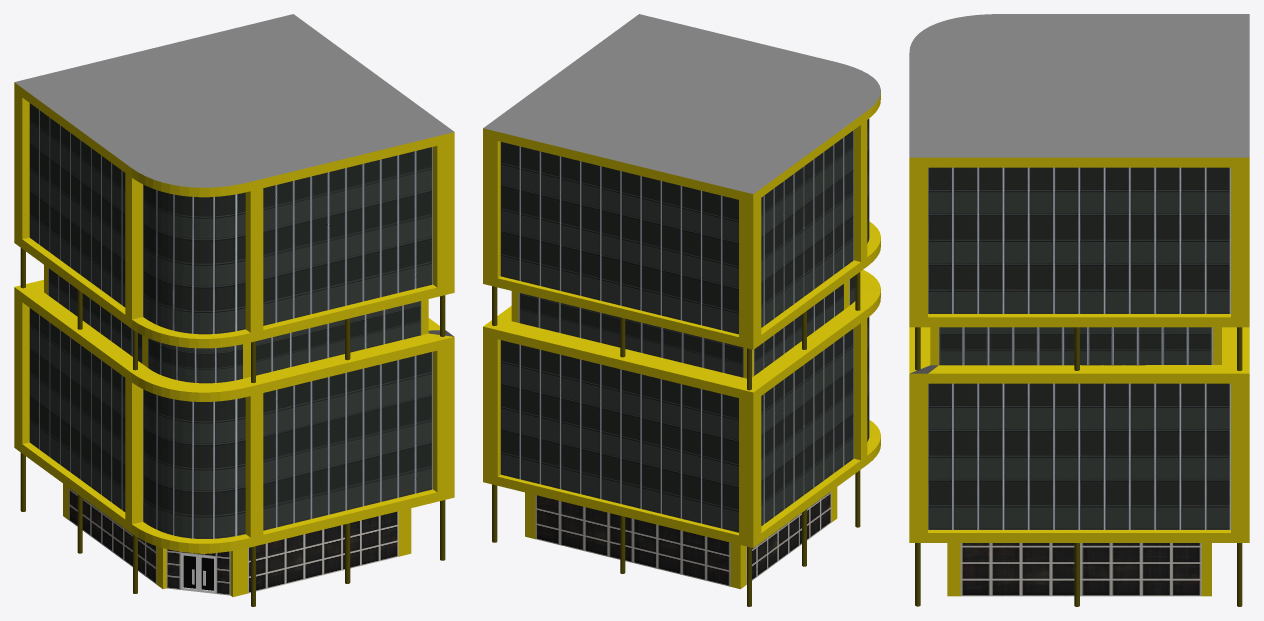
3 views of the same model, side by side, from view 1: azimuth 30°, elevation 25°; view 2: azimuth 150°, elevation 25°; view 3: azimuth 270°, elevation 25° (orthographic). The views are drawn at different scales.
Visible parts, largest first — view 1: EB-014; view 2: EB-014; view 3: EB-014.
Part boxes in pixels (bbox=[...]): EB-014: bbox=[14, 14, 454, 606]; EB-014: bbox=[483, 14, 880, 606]; EB-014: bbox=[909, 14, 1249, 606].
Size of what is drawn, in the model's own units: 18.55 by 27.2 by 18.55.
